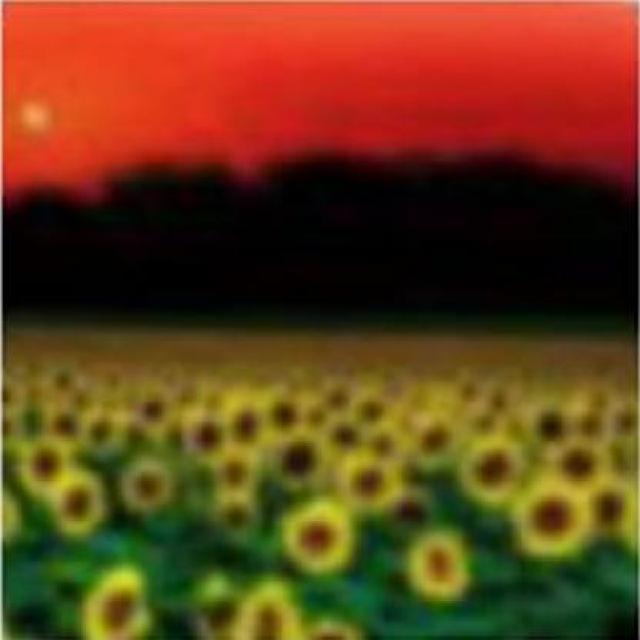sunflower: (516, 476, 599, 561), (78, 560, 152, 640), (464, 434, 534, 504), (285, 505, 352, 573)
